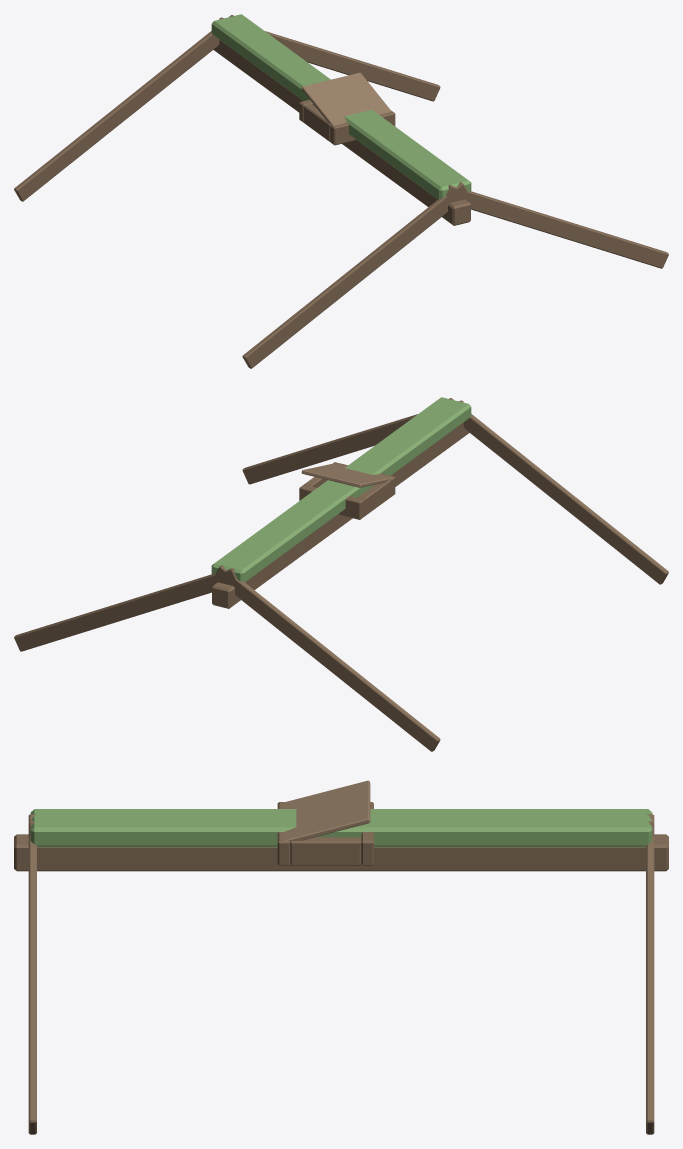
The model's file is ljore_smoke_vent.glb.
3 renders of one model, top to bottom at view 1: azimuth 30°, elevation 25°; view 2: azimuth 150°, elevation 25°; view 3: azimuth 270°, elevation 25°, orthographic. The views are drawn at different scales.
Parts seen in each view (by area): view 1: ljore_smoke_vent; view 2: ljore_smoke_vent; view 3: ljore_smoke_vent.
Boxes of the visible parts, x1,y1,x2,y2 form: ljore_smoke_vent: [14, 14, 668, 368]; ljore_smoke_vent: [14, 397, 668, 751]; ljore_smoke_vent: [14, 780, 668, 1134].
Size of the model in its own units: 6.33 by 2.1 by 6.26.
